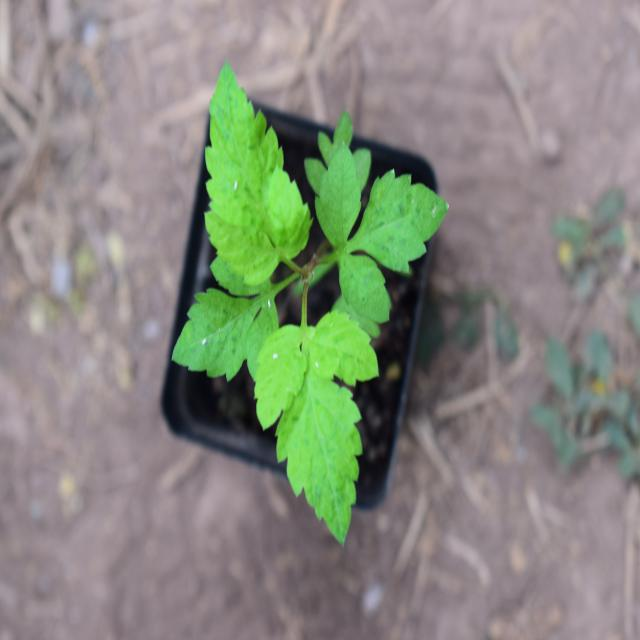Bidens pilosa: (178, 70, 436, 534)
